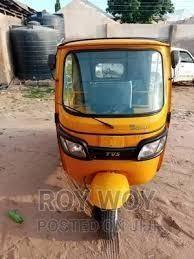keke: (52, 34, 178, 256)
